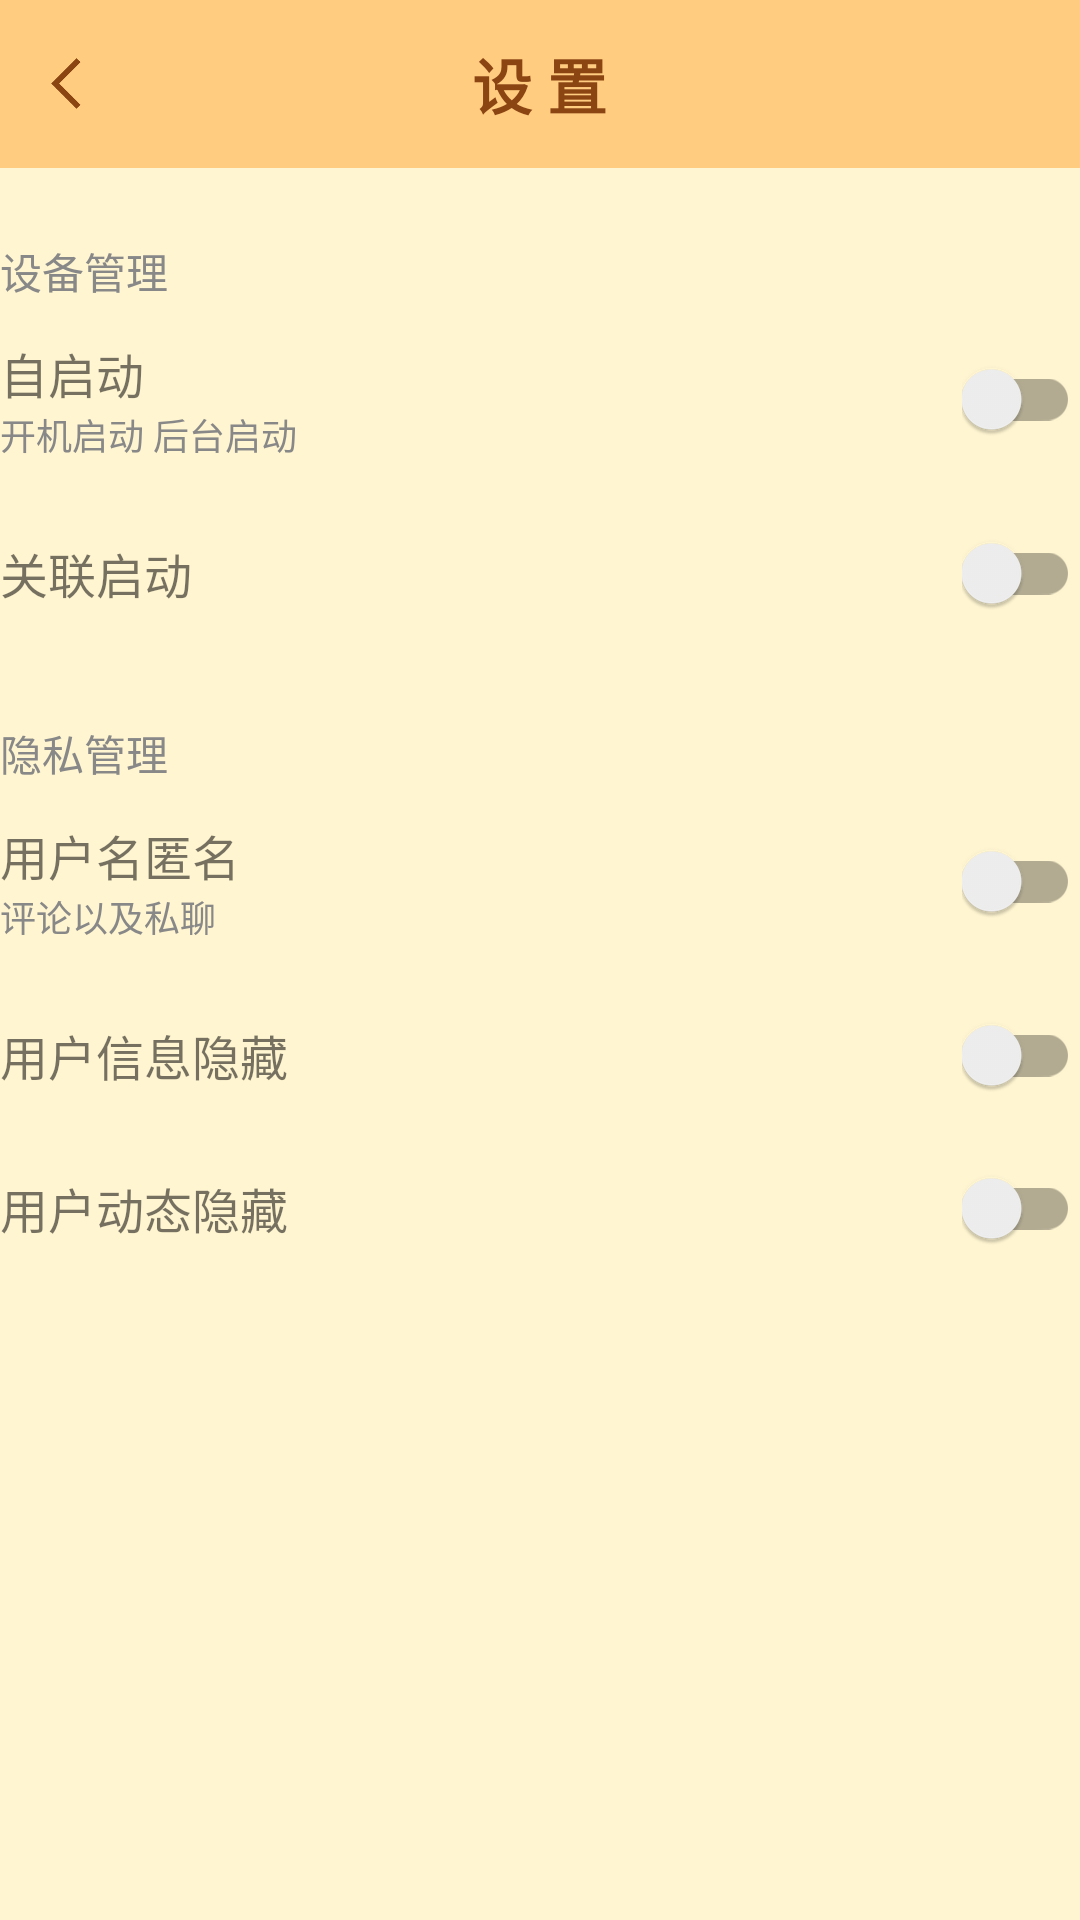

Where to tap for icons on this 1080 x 1920 app screen, as point (x, y):
back: point (65, 83)
